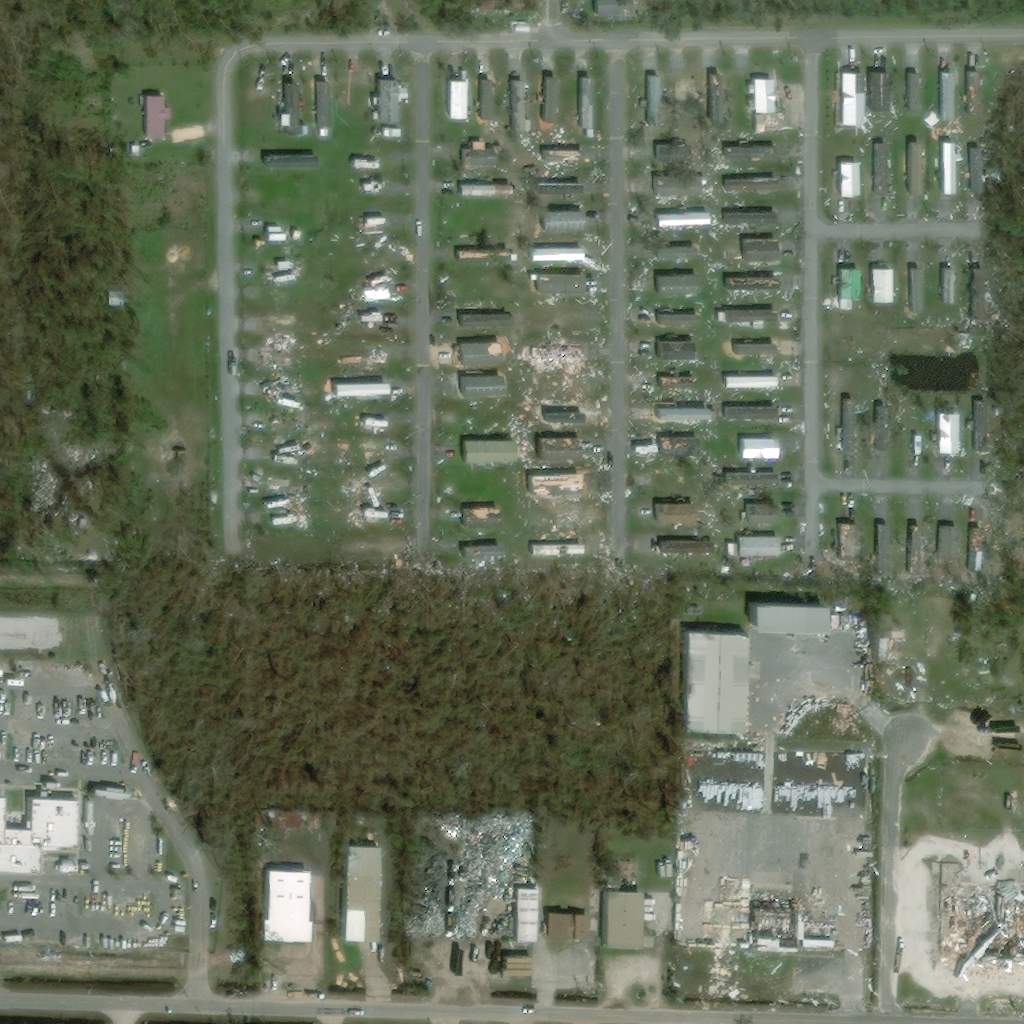destroyed: (933, 861, 1023, 958), (744, 901, 799, 951), (532, 347, 588, 362), (262, 346, 287, 366), (875, 638, 894, 663), (363, 347, 385, 359), (276, 320, 296, 329)
major_damage: (361, 283, 385, 299), (279, 383, 300, 396), (276, 261, 294, 276)
minor_damage: (675, 629, 748, 736), (276, 83, 308, 135), (651, 174, 710, 200), (372, 80, 404, 125), (722, 464, 780, 488), (531, 273, 586, 296), (653, 502, 700, 528), (636, 540, 715, 555), (457, 180, 514, 200), (938, 527, 962, 573), (510, 80, 530, 134), (536, 438, 581, 462), (705, 73, 725, 126), (741, 502, 782, 527), (659, 434, 701, 458), (458, 308, 510, 327), (739, 437, 781, 460), (875, 524, 891, 584), (456, 247, 518, 262), (908, 526, 924, 584), (459, 544, 507, 563), (460, 141, 498, 165), (458, 507, 501, 528), (656, 341, 697, 363), (724, 178, 779, 194), (656, 276, 701, 295), (743, 238, 778, 262), (837, 162, 861, 197), (723, 212, 780, 226), (718, 310, 778, 323), (543, 402, 582, 422), (870, 73, 889, 113), (875, 143, 889, 196), (724, 277, 780, 290), (724, 147, 778, 160), (654, 245, 698, 260), (529, 543, 583, 555), (540, 150, 585, 164), (836, 524, 850, 567), (659, 377, 697, 391), (360, 312, 387, 322)
no_damage: (0, 790, 78, 871), (337, 845, 383, 946), (258, 869, 312, 943), (248, 792, 314, 830), (744, 602, 824, 632), (600, 892, 639, 950), (831, 73, 865, 128), (511, 886, 539, 943), (974, 399, 1003, 454), (458, 438, 517, 464), (546, 912, 600, 940), (725, 532, 780, 559), (57, 40, 111, 65), (938, 141, 962, 196), (838, 399, 863, 451), (459, 371, 504, 398), (834, 267, 862, 310), (748, 79, 782, 113), (145, 95, 172, 136), (445, 79, 471, 121), (933, 414, 960, 454), (602, 859, 639, 888), (649, 211, 710, 228), (539, 210, 586, 232), (969, 267, 986, 324), (869, 268, 895, 304), (589, 0, 631, 22), (722, 374, 779, 390), (528, 248, 584, 263), (645, 76, 661, 128), (724, 406, 779, 420), (333, 381, 388, 395), (577, 76, 591, 130), (939, 71, 954, 121), (536, 181, 584, 196), (263, 154, 318, 167), (908, 268, 923, 314), (907, 71, 922, 117), (877, 406, 890, 454), (940, 267, 956, 306), (476, 0, 525, 11), (354, 212, 385, 229), (754, 117, 780, 134), (271, 511, 295, 525), (270, 194, 292, 208), (363, 478, 387, 490), (360, 246, 383, 258), (376, 129, 406, 138), (269, 421, 290, 433), (350, 160, 377, 169), (908, 439, 920, 459), (363, 415, 389, 424), (273, 290, 293, 301), (274, 445, 297, 454), (362, 440, 382, 449), (267, 488, 287, 496), (363, 510, 381, 518), (305, 388, 320, 397), (366, 427, 384, 434), (514, 23, 531, 30)
